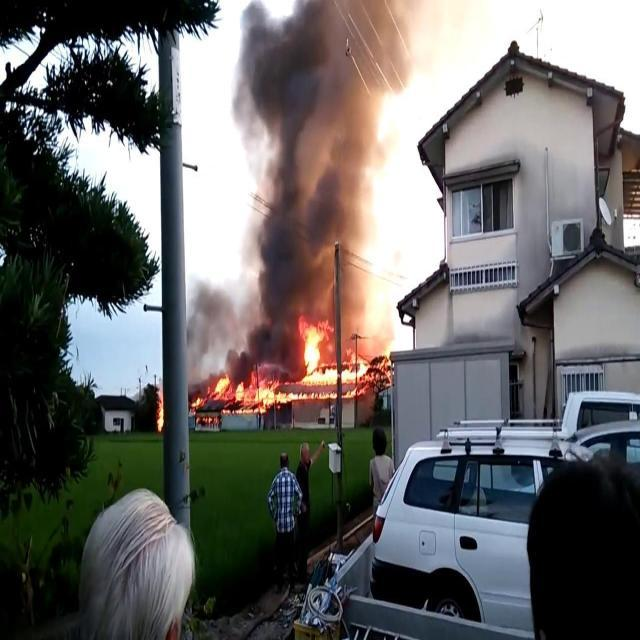Fire: (302, 328, 392, 388), (211, 384, 357, 410), (156, 398, 164, 428), (190, 394, 202, 411)
Smoke: (231, 0, 406, 316)
